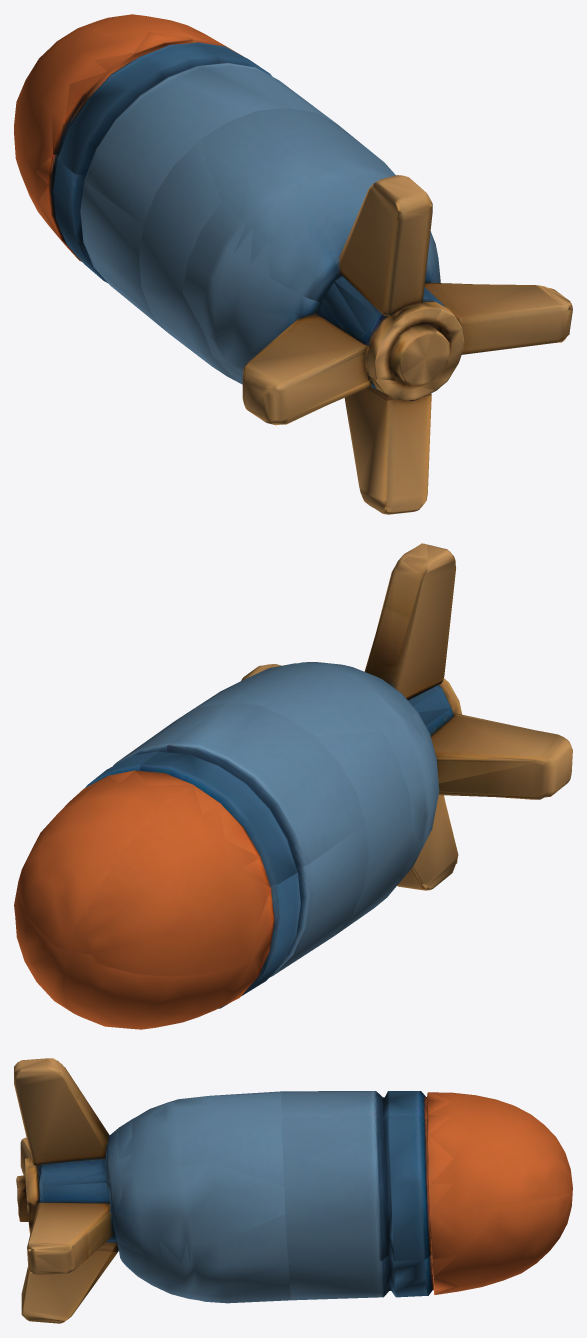
File: MissileProjectile.fbx
3 renders of one model, top to bottom at view 1: azimuth 30°, elevation 25°; view 2: azimuth 150°, elevation 25°; view 3: azimuth 270°, elevation 25°, orthographic. The views are drawn at different scales.
Parts seen in each view (by area): view 1: Missile; view 2: Missile; view 3: Missile.
Part boxes in pixels (x1,y1,x2,y2): Missile: (14, 14, 572, 514); Missile: (14, 543, 572, 1029); Missile: (14, 1058, 572, 1323).
Bounding box in the file's own units: 50.98 × 50.98 × 99.8.
1 material, 1 textured.
